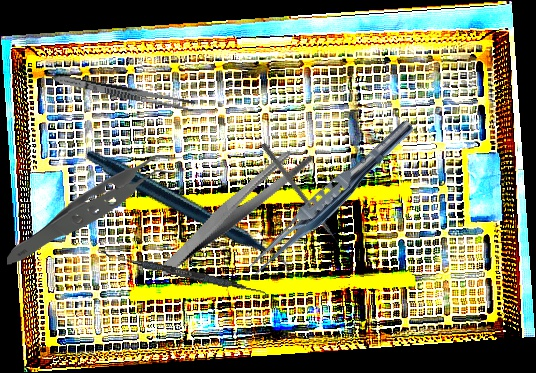Dressing Forceps: (137, 142, 333, 277), (51, 71, 197, 113)
Handpiece: (83, 95, 294, 333)
Pusher: (259, 142, 346, 253)
Spatula Surgical: (98, 250, 268, 296)
Tissue Forceps: (241, 112, 419, 284), (5, 154, 189, 266)
